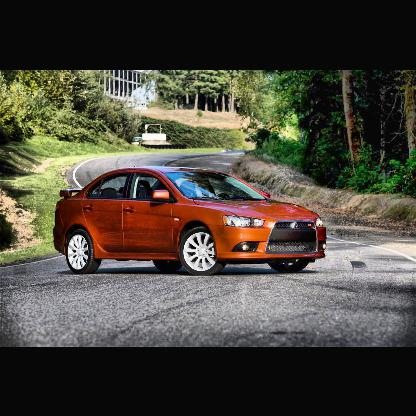Mitsubishi Lancer Sedan 2012: (52, 165, 329, 276)
